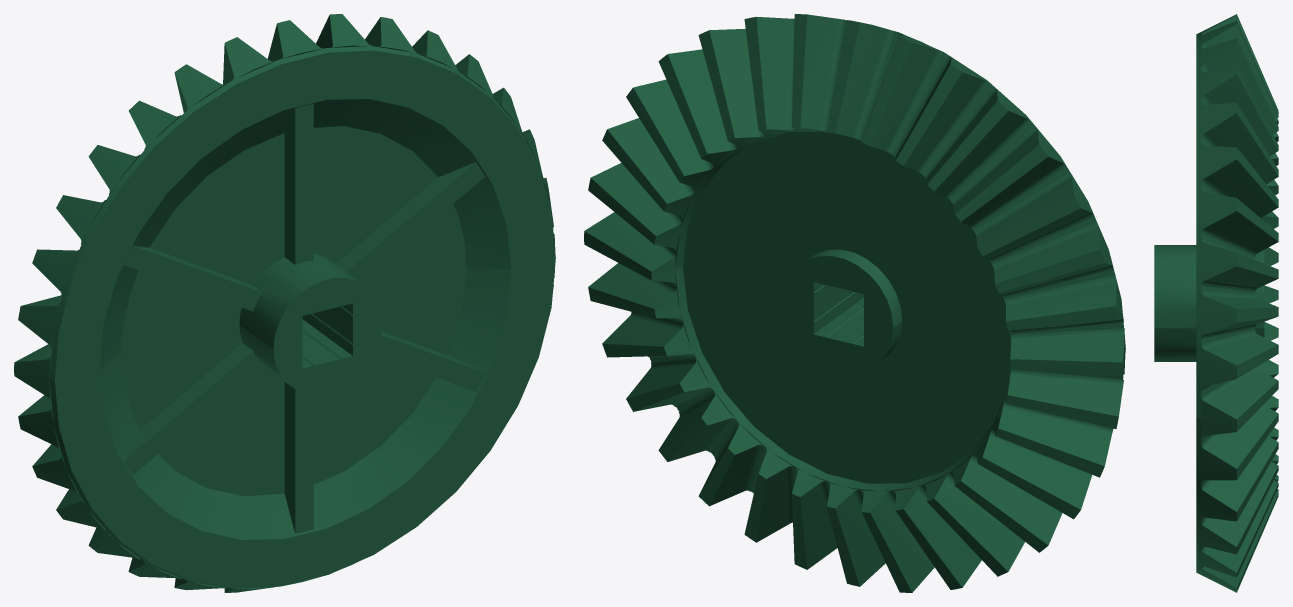
3 views of the same model, side by side, from view 1: azimuth 30°, elevation 25°; view 2: azimuth 150°, elevation 25°; view 3: azimuth 270°, elevation 25° (orthographic). The views are drawn at different scales.
Visible parts, largest first — view 1: mesh (×17); view 2: mesh (×33); view 3: mesh (×23).
Part boxes in pixels (left/top/right/bottom): mesh (×17): left=14, top=14, right=555, bottom=588; mesh (×33): left=584, top=14, right=1125, bottom=592; mesh (×23): left=1154, top=14, right=1278, bottom=592.
Bounding box in the file's own units: 34.63 × 34.63 × 7.44.
